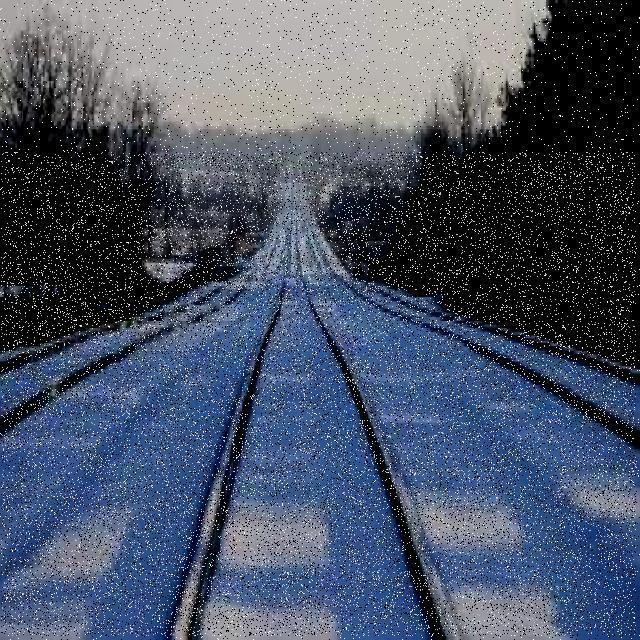rail: (3, 154, 637, 637)
